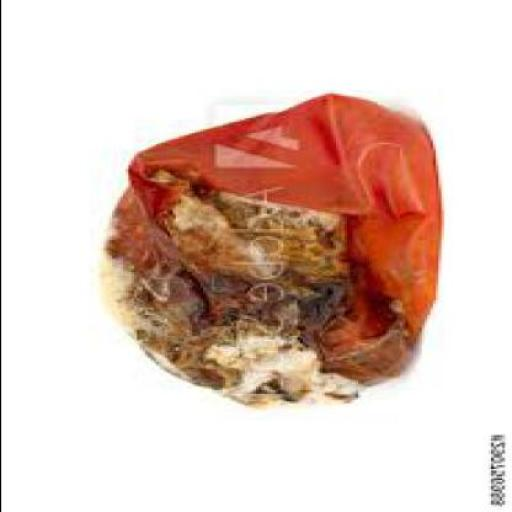biodegradable: (97, 92, 440, 403)
